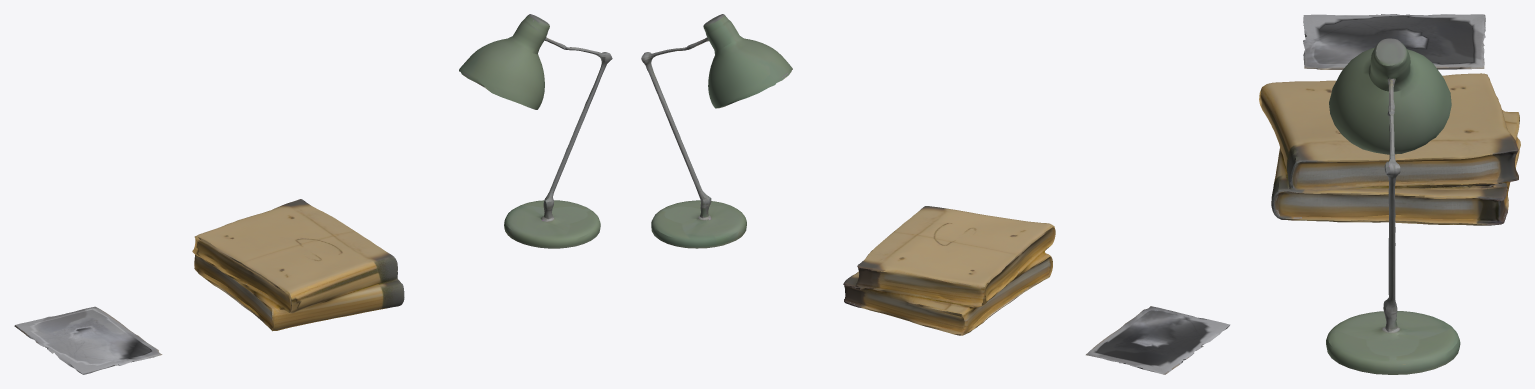
Rendered from study_corner_essentials.fbx.
3 renders of one model, left to right at view 1: azimuth 30°, elevation 25°; view 2: azimuth 150°, elevation 25°; view 3: azimuth 270°, elevation 25°, orthographic. The views are drawn at different scales.
Parts seen in each view (by area): view 1: essentials_folders, essentials_lamp, essentials_leaflet; view 2: essentials_folders, essentials_lamp, essentials_leaflet; view 3: essentials_folders, essentials_lamp, essentials_leaflet.
Boxes of the visible parts, box(x1,y1,x2,y2) form: essentials_folders: box(192, 199, 404, 331); essentials_lamp: box(459, 14, 612, 248); essentials_leaflet: box(14, 306, 162, 374); essentials_folders: box(843, 206, 1055, 335); essentials_lamp: box(641, 14, 792, 248); essentials_leaflet: box(1086, 306, 1230, 374); essentials_folders: box(1259, 73, 1520, 225); essentials_lamp: box(1326, 38, 1460, 374); essentials_leaflet: box(1303, 14, 1485, 69).
Size of the model in its own units: 3.05 by 1.14 by 0.909.
1 material, 1 textured.
